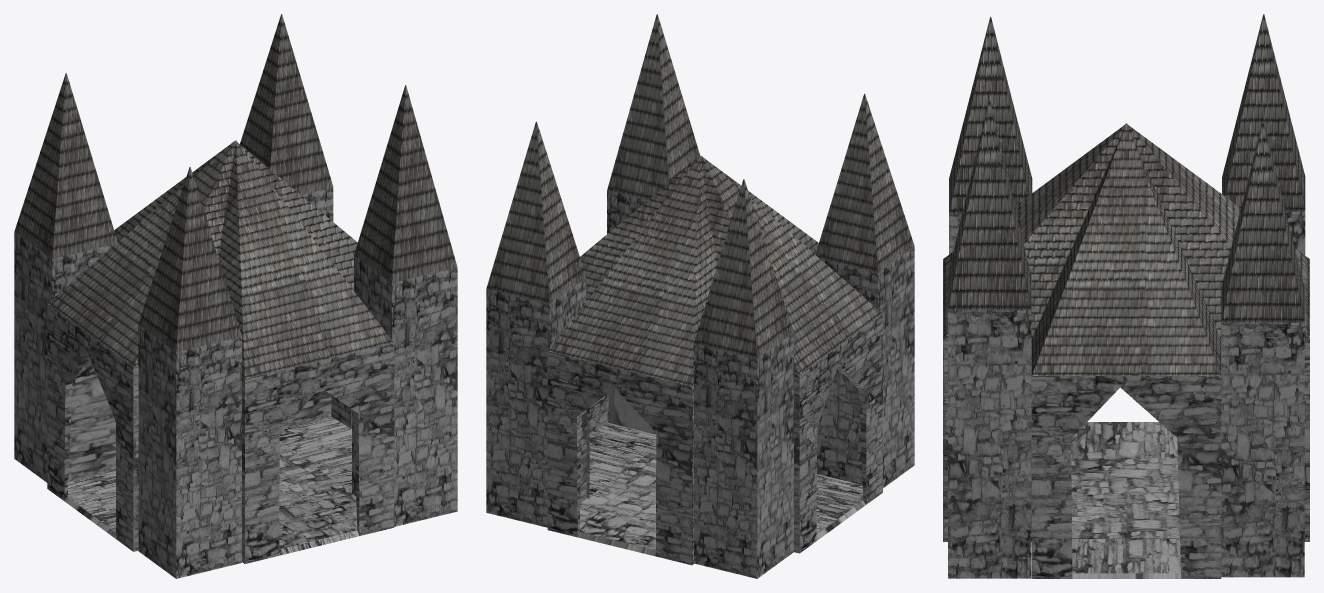
File: temple-texture.fbx
3 renders of one model, left to right at view 1: azimuth 30°, elevation 25°; view 2: azimuth 150°, elevation 25°; view 3: azimuth 270°, elevation 25°, orthographic. The views are drawn at different scales.
Visible parts, largest first — view 1: Cube.004, Cube, Cube.005, Cube.001, Cube.002, Cube.003, Cube.008, Cube.007; view 2: Cube.004, Cube.002, Cube.005, Cube.003, Cube, Cube.001, Cube.008, Cube.007, Cube.006; view 3: Cube.005, Cube.001, Cube.003, Cube.004, Cube.002, Cube, Cube.006.
Boxes of the visible parts, box(x1,y1,x2,y2) form: Cube.004: box(114, 140, 394, 563); Cube: box(138, 167, 241, 578); Cube.005: box(47, 140, 357, 551); Cube.001: box(354, 85, 457, 526); Cube.002: box(14, 73, 117, 482); Cube.003: box(240, 14, 333, 221); Cube.008: box(68, 358, 331, 480); Cube.007: box(133, 366, 138, 551); Cube.004: box(547, 156, 818, 565); Cube.002: box(693, 179, 793, 578); Cube.005: box(580, 156, 882, 553); Cube.003: box(486, 121, 586, 527); Cube: box(815, 93, 914, 488); Cube.001: box(607, 14, 700, 233); Cube.008: box(586, 373, 799, 552); Cube.007: box(608, 388, 656, 434); Cube.006: box(580, 410, 586, 502); Cube.005: box(1031, 123, 1221, 578); Cube.001: box(948, 99, 1031, 578); Cube.003: box(1221, 122, 1304, 577); Cube.004: box(943, 124, 1309, 541); Cube.002: box(1222, 14, 1305, 255); Cube: box(949, 16, 1032, 254); Cube.006: box(943, 339, 1309, 541).
Bounding box in the file's own units: 2520 × 3500 × 2520.
2 materials, 2 textured.
